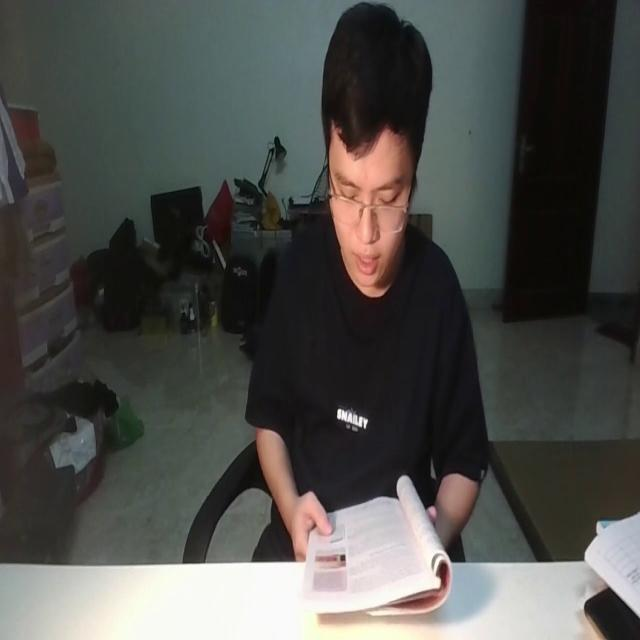book: (300, 474, 454, 630)
student: (245, 0, 490, 563)
